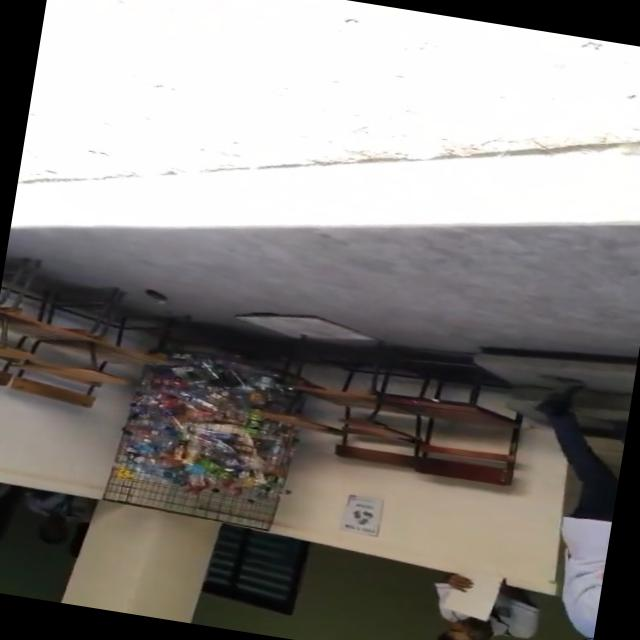Bottle: (145, 289, 167, 303)
